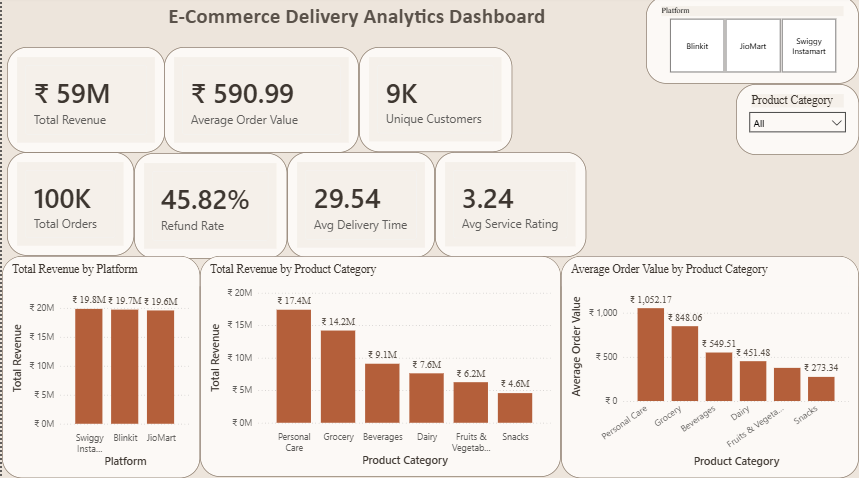

This screenshot's page, from the dashboard's own definition file:
{"tool":"powerbi","page":{"name":"Page 1","canvas":[1280,720],"ordinal":0},"visuals":[{"type":"cardVisual","fields":{"Data":["ecommerce_delivery_analytics.Total Orders"]},"box":[7.5,233,189.7,155.4],"z":1},{"type":"cardVisual","fields":{"Data":["ecommerce_delivery_analytics.Unique Customers"]},"box":[533.3,76.2,228.5,156.8],"z":2},{"type":"cardVisual","fields":{"Data":["ecommerce_delivery_analytics.Average Delivery time"]},"box":[425.7,233,221.1,158.3],"z":4},{"type":"cardVisual","fields":{"Data":["ecommerce_delivery_analytics.Refund Percentage"]},"box":[197.2,234.5,228.5,158.3],"z":5},{"type":"clusteredColumnChart","fields":{"Category":["ecommerce_delivery_analytics.Platform"],"Y":["ecommerce_delivery_analytics.Total Revenue"]},"box":[0,388.4,295.8,331.6],"z":7},{"type":"cardVisual","fields":{"Data":["ecommerce_delivery_analytics.Average Service Rating"]},"box":[646.8,233,225.6,156.8],"z":8},{"type":"clusteredColumnChart","fields":{"Category":["ecommerce_delivery_analytics.Product Category"],"Y":["ecommerce_delivery_analytics.Total Revenue"]},"box":[295.8,388.4,539.3,330.1],"z":9},{"type":"clusteredColumnChart","fields":{"Category":["ecommerce_delivery_analytics.Product Category"],"Y":["ecommerce_delivery_analytics.Average Order Value"]},"box":[835,388.4,445.1,331.6],"z":10},{"type":"slicer","fields":{"Values":["ecommerce_delivery_analytics.Platform"]},"box":[962,0,318.2,131.5],"z":14},{"type":"slicer","fields":{"Values":["ecommerce_delivery_analytics.Product Category"]},"box":[1096.4,131.5,183.7,106.1],"z":15},{"type":"textbox","box":[243.5,6,691.6,59.8],"z":16},{"type":"cardVisual","fields":{"Data":["ecommerce_delivery_analytics.Total Revenue"]},"box":[7.5,76.2,236,158.3],"z":17},{"type":"cardVisual","fields":{"Data":["ecommerce_delivery_analytics.Average Order Value"]},"box":[242,76.2,291.3,158.3],"z":18}]}

Visuals, with their boxes in screenshot pixels (x1, y1, x2, y2), scaled from the page's 1280x720 canvas onto the 859x478 screenshot:
cardVisual - ecommerce_delivery_analytics.Total Orders: bbox(5, 155, 132, 258)
cardVisual - ecommerce_delivery_analytics.Unique Customers: bbox(358, 51, 511, 155)
cardVisual - ecommerce_delivery_analytics.Average Delivery time: bbox(286, 155, 434, 260)
cardVisual - ecommerce_delivery_analytics.Refund Percentage: bbox(132, 156, 286, 261)
clusteredColumnChart - ecommerce_delivery_analytics.Platform x ecommerce_delivery_analytics.Total Revenue: bbox(0, 258, 199, 477)
cardVisual - ecommerce_delivery_analytics.Average Service Rating: bbox(434, 155, 585, 259)
clusteredColumnChart - ecommerce_delivery_analytics.Product Category x ecommerce_delivery_analytics.Total Revenue: bbox(199, 258, 560, 477)
clusteredColumnChart - ecommerce_delivery_analytics.Product Category x ecommerce_delivery_analytics.Average Order Value: bbox(560, 258, 858, 477)
slicer - ecommerce_delivery_analytics.Platform: bbox(646, 0, 858, 87)
slicer - ecommerce_delivery_analytics.Product Category: bbox(736, 87, 858, 158)
textbox: bbox(163, 4, 628, 44)
cardVisual - ecommerce_delivery_analytics.Total Revenue: bbox(5, 51, 163, 156)
cardVisual - ecommerce_delivery_analytics.Average Order Value: bbox(162, 51, 358, 156)
